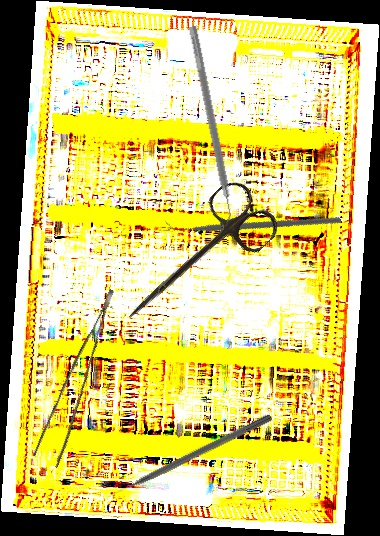Chopper: (163, 135, 342, 305)
Iris Scissors: (106, 174, 285, 347)
Pusher: (105, 411, 273, 501)
Spatula Surgical: (180, 25, 239, 228)
Tissue Forceps: (24, 289, 143, 468)
